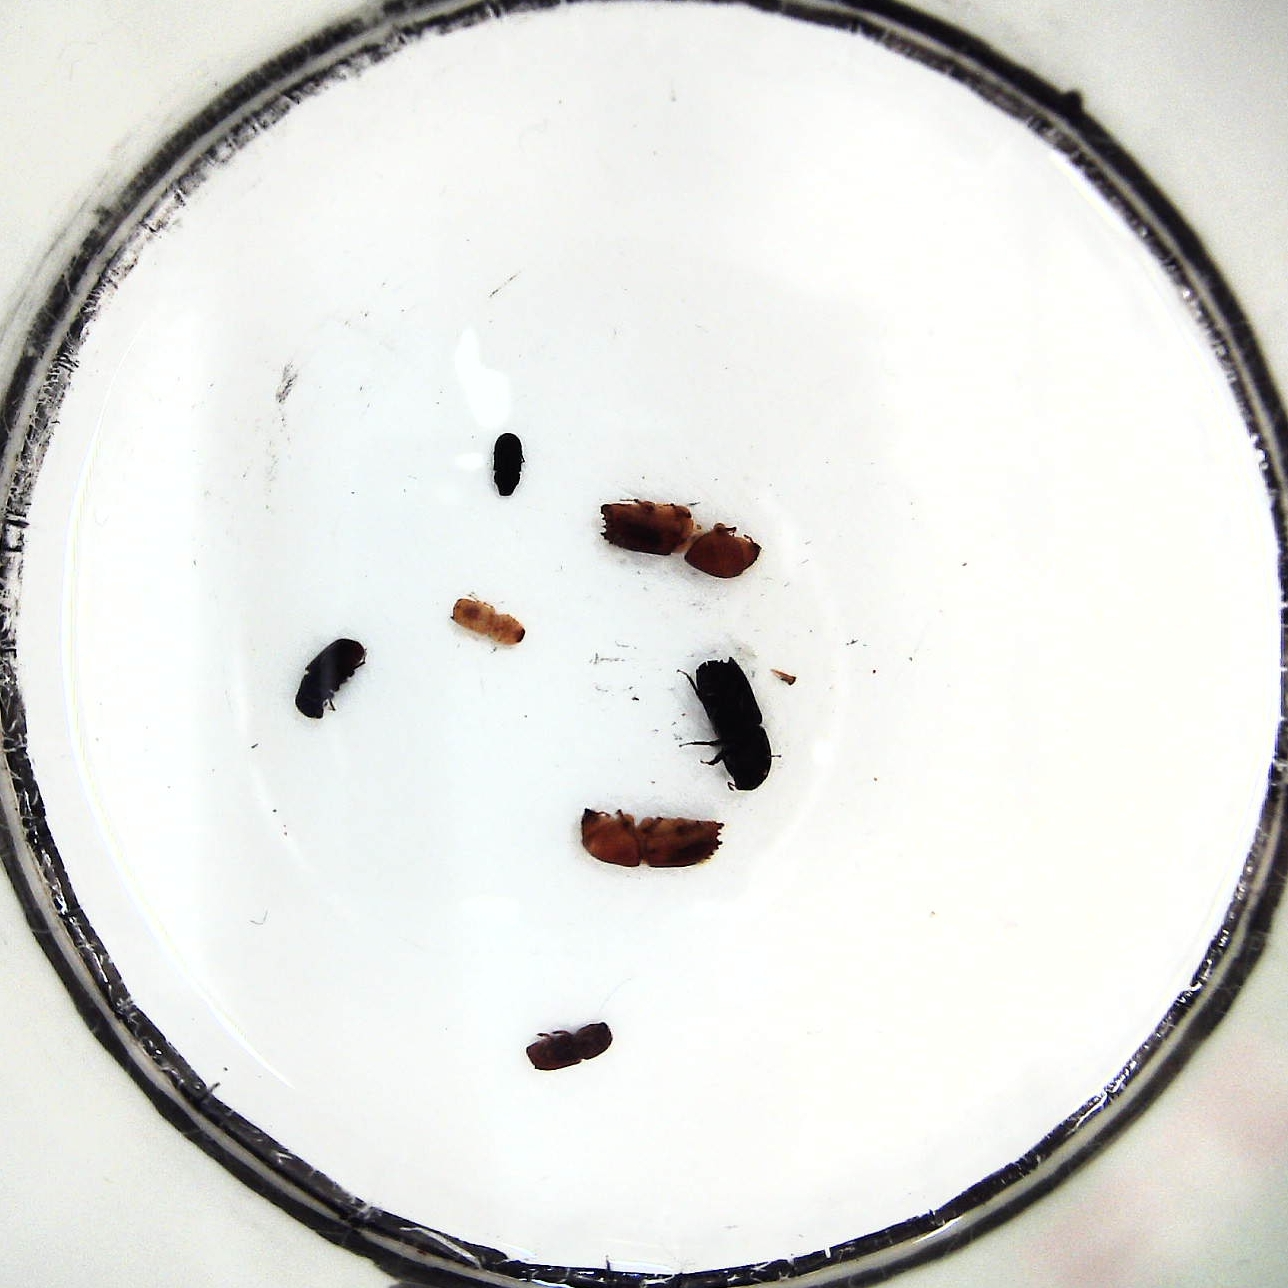Boerner: (598, 491, 765, 578), (690, 652, 775, 791), (577, 804, 729, 868)
Linnaeus: (526, 1019, 613, 1077)
acuminatus: (449, 590, 524, 650)
armandi: (293, 637, 369, 727)
coleoptera: (485, 429, 531, 502)
